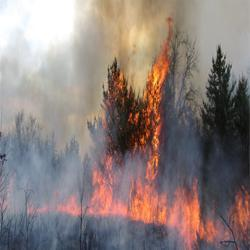fire: (132, 181, 204, 222), (93, 156, 114, 211), (147, 63, 162, 131)
